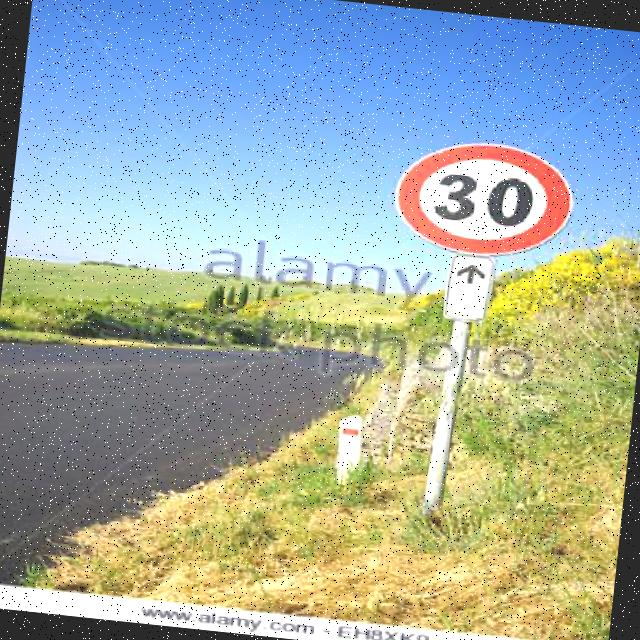Ograniczenie predkosci do 30: (388, 132, 582, 266)
